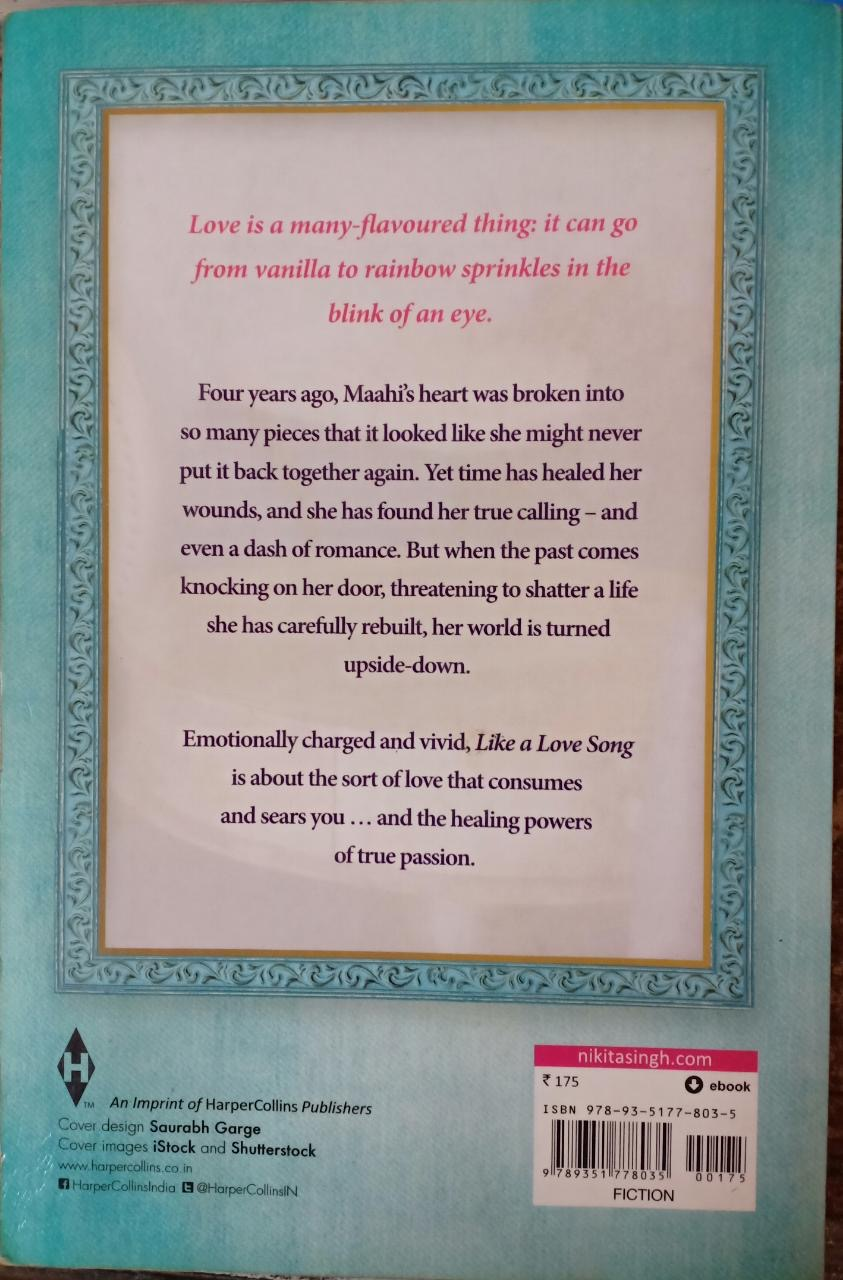barcode: (529, 1094, 755, 1190)
